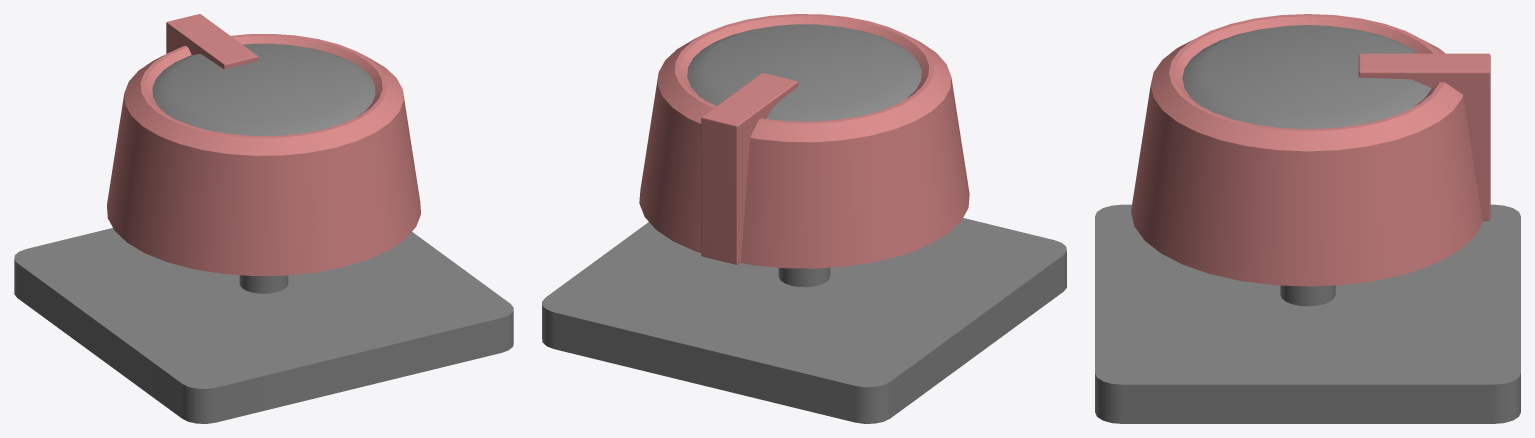
The model's file is Dial.fbx.
3 renders of one model, left to right at view 1: azimuth 30°, elevation 25°; view 2: azimuth 150°, elevation 25°; view 3: azimuth 270°, elevation 25°, orthographic. The views are drawn at different scales.
Parts seen in each view (by area): view 1: Knob, Dial; view 2: Knob, Dial; view 3: Knob, Dial.
Part boxes in pixels (box(x1,y1,x2,y2)): Knob: box(107, 14, 420, 293); Dial: box(14, 228, 513, 423); Knob: box(639, 14, 969, 287); Dial: box(542, 218, 1066, 423); Knob: box(1131, 14, 1490, 306); Dial: box(1095, 204, 1520, 423).
Bounding box in the file's own units: 12.76 × 8.98 × 12.76.
